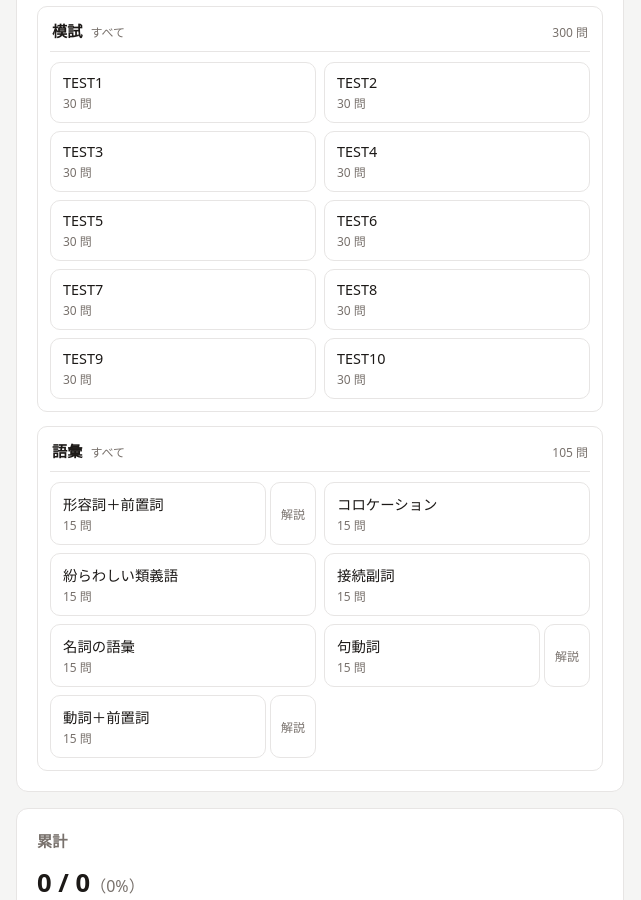
Test: サブカテゴリ出題 › 語彙の「すべて」を選ぶと 105 問が出る
(page scrolled)
「語彙・語法」サブカテゴリと衝突しないよう、カテゴリ見出しの「すべて」で選ぶ
Click the button "語彙 すべて 105 問" at (67, 451), box [50,439,590,461]
(page scrolled)
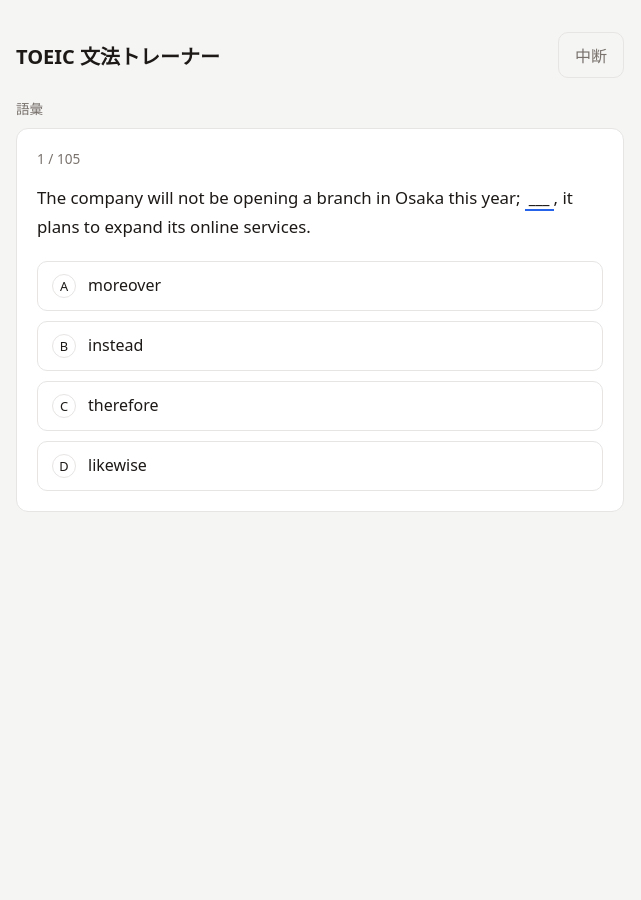
Now the text "1 / 105" is shown, box [37,149,80,168]
